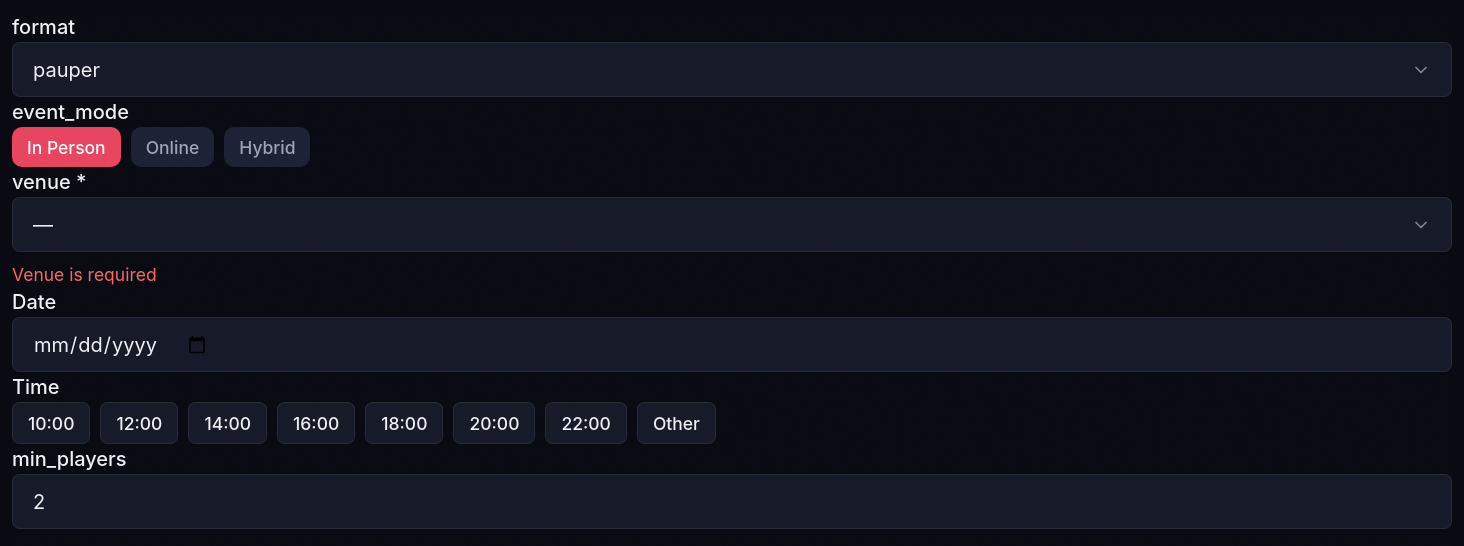
Scenario: EventFormFields › format select › displays all FORMATS options when opened
Click the dropdown labelled "pauper" at (66, 70), box 12,42 -> 1452,97
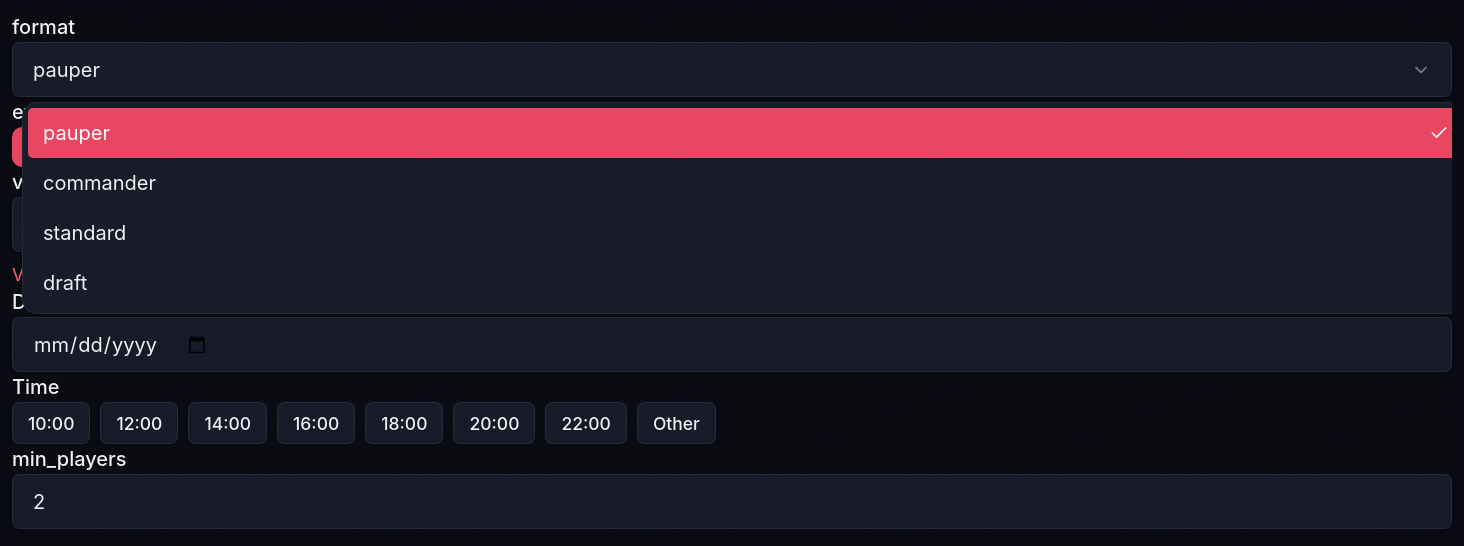
Expected: the option "commander" is shown, 43,171 -> 156,195
Expected: the option "standard" is shown, 43,221 -> 126,245
Expected: the option "draft" is shown, 43,271 -> 87,295
